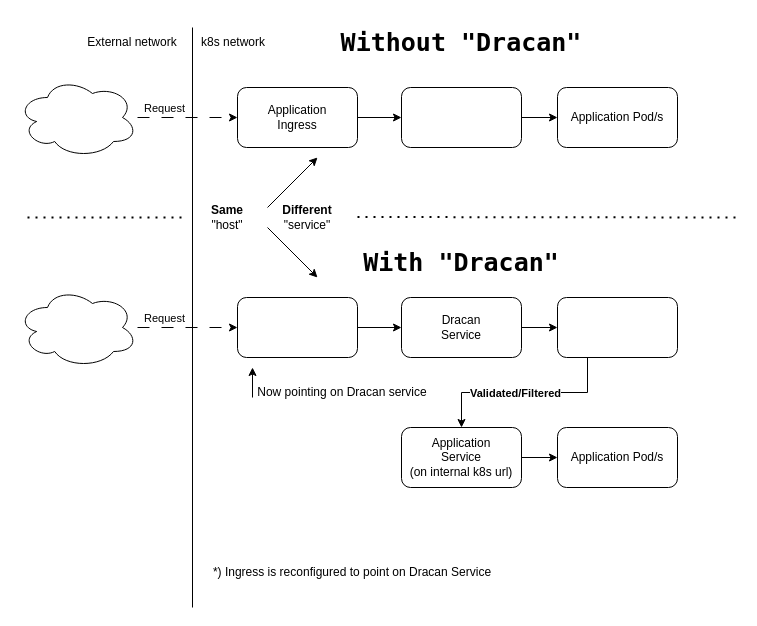
Some shapes in this 757 by 626 pixel diagram are drawn without their labels. The centre of each missing label's shape, as x and y in pixels:
"Application Ingress*" goes at point (297, 327).
"Application Service" goes at point (461, 117).
"Dracan Pod/s" goes at point (617, 327).
